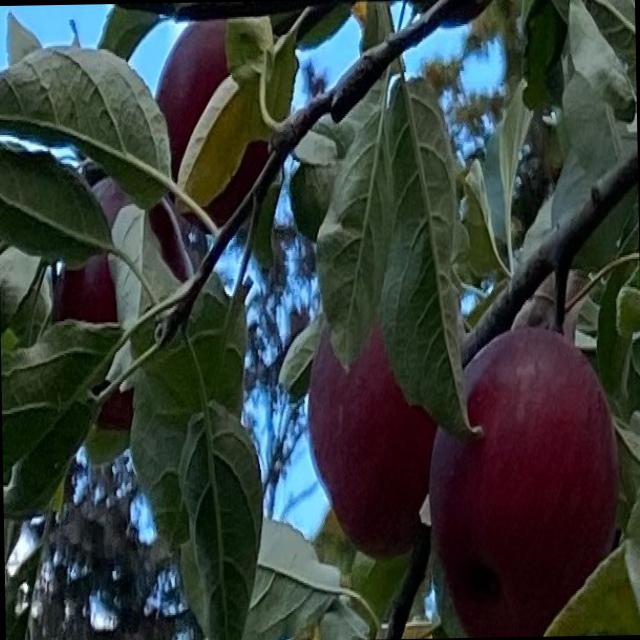Apples: (424, 330, 618, 636), (49, 178, 200, 428), (304, 314, 439, 560), (152, 18, 270, 226)
